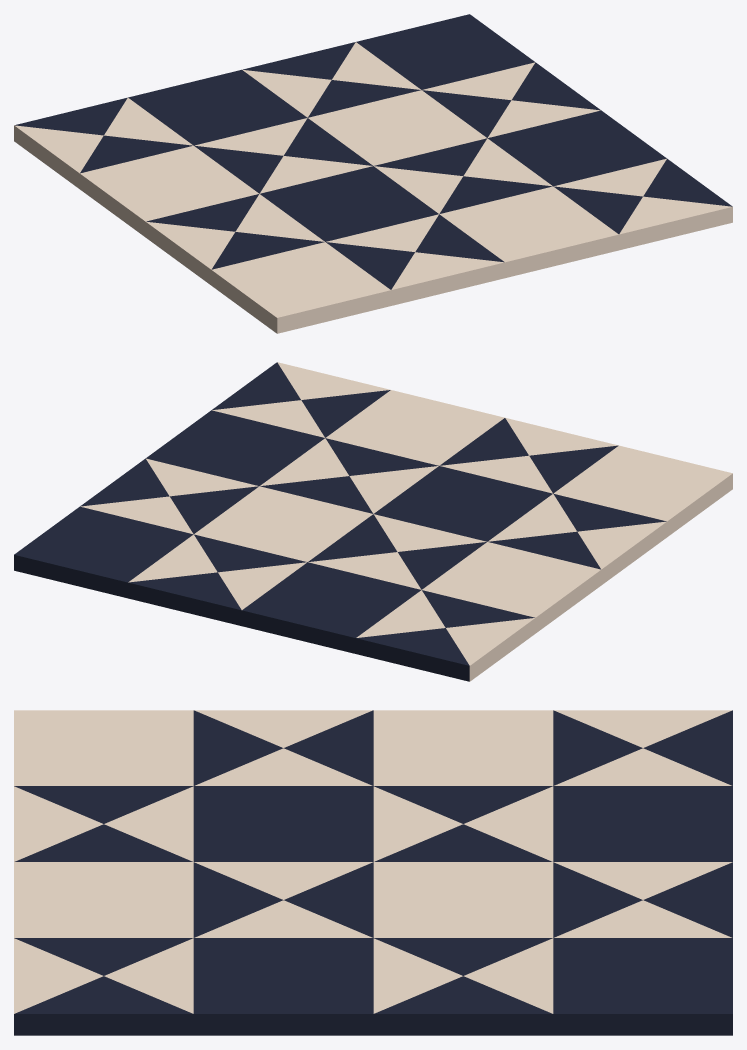
Rendered from empire-pavement-mosaic-3x3m-triangle-empire.glb.
3 renders of one model, top to bottom at view 1: azimuth 30°, elevation 25°; view 2: azimuth 150°, elevation 25°; view 3: azimuth 270°, elevation 25°, orthographic. The views are drawn at different scales.
Parts seen in each view (by area): view 1: SM_Pavement_Mosaic_3x3m_Triangle_Empire; view 2: SM_Pavement_Mosaic_3x3m_Triangle_Empire; view 3: SM_Pavement_Mosaic_3x3m_Triangle_Empire.
Part boxes in pixels (x1,y1,x2,y2): SM_Pavement_Mosaic_3x3m_Triangle_Empire: [14, 14, 732, 333]; SM_Pavement_Mosaic_3x3m_Triangle_Empire: [14, 362, 732, 681]; SM_Pavement_Mosaic_3x3m_Triangle_Empire: [14, 710, 732, 1035].
Size of the model in its own units: 3 by 0.1001 by 3.
